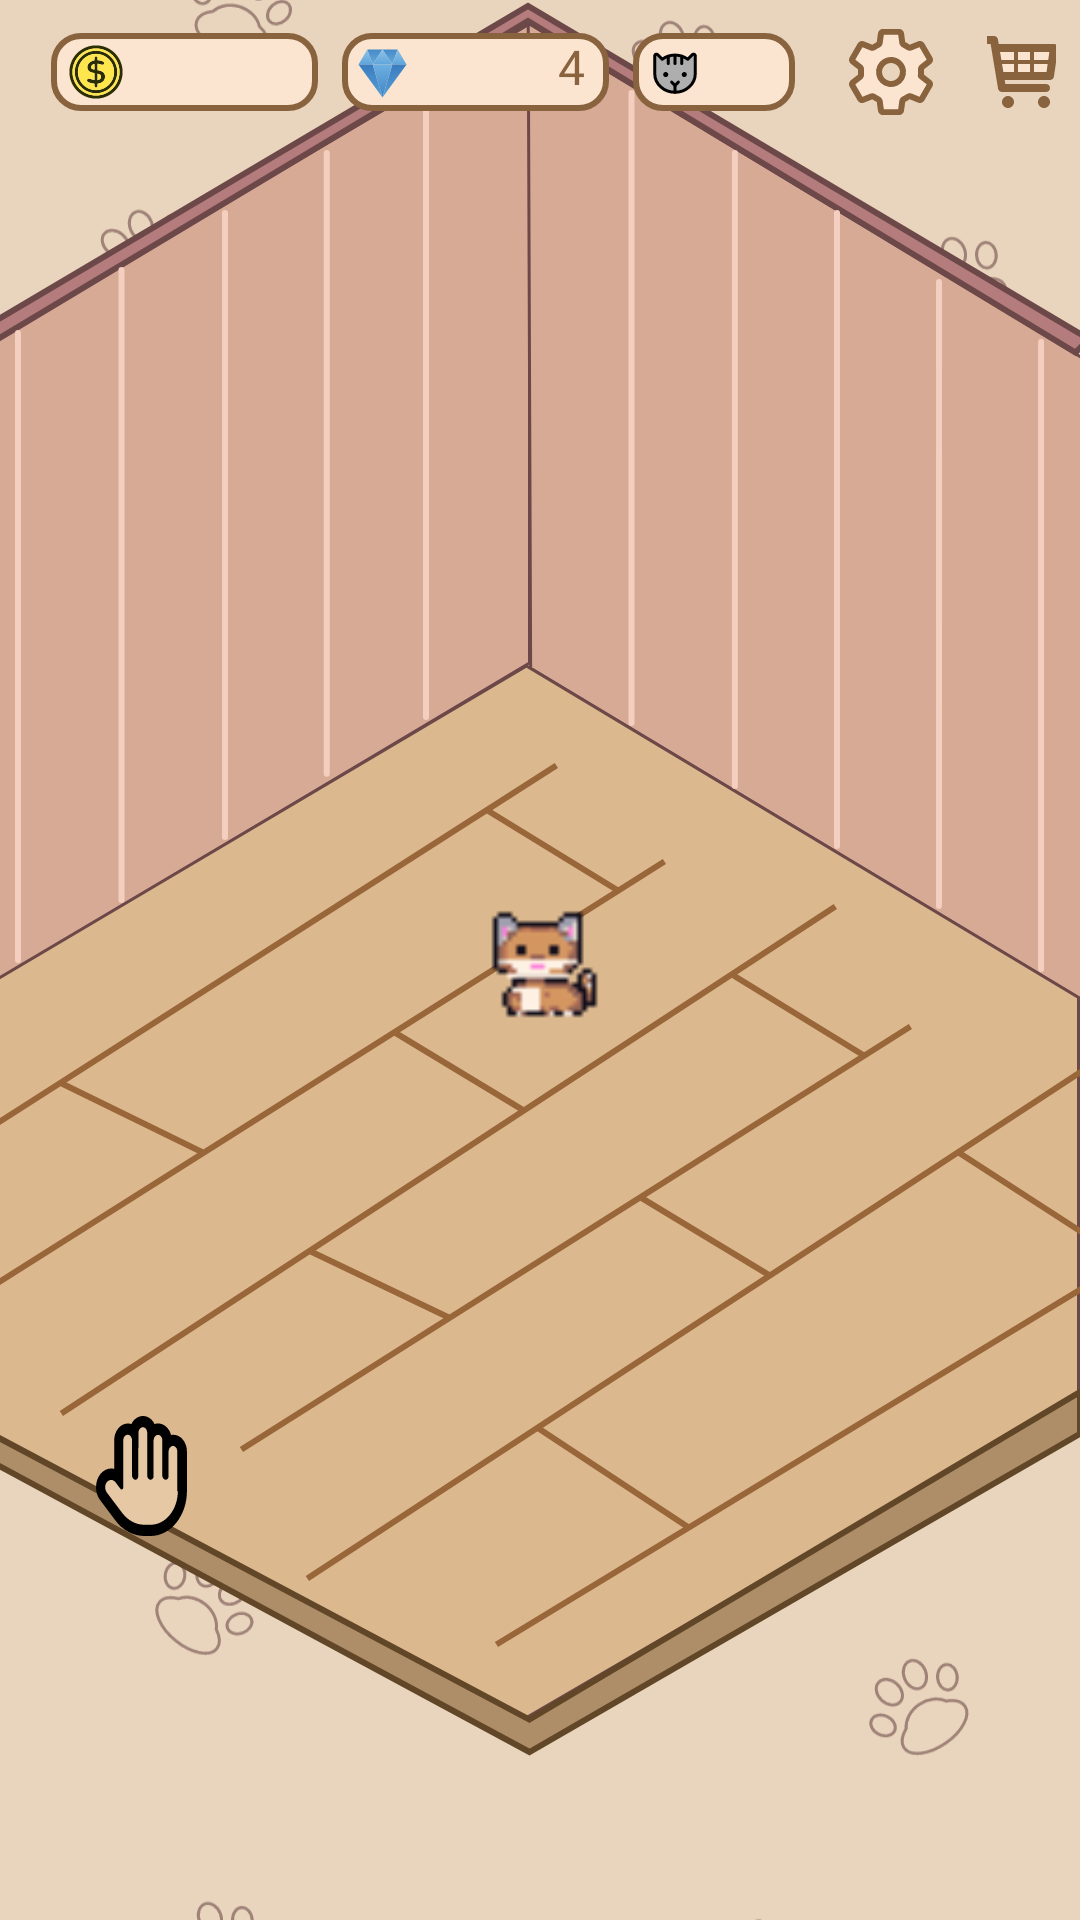

Where to tap for icons on this 1080 × 1920 app screen, as (x=x, y=y):
hand: (x=143, y=1476)
settings: (x=891, y=72)
shop: (x=1021, y=72)
